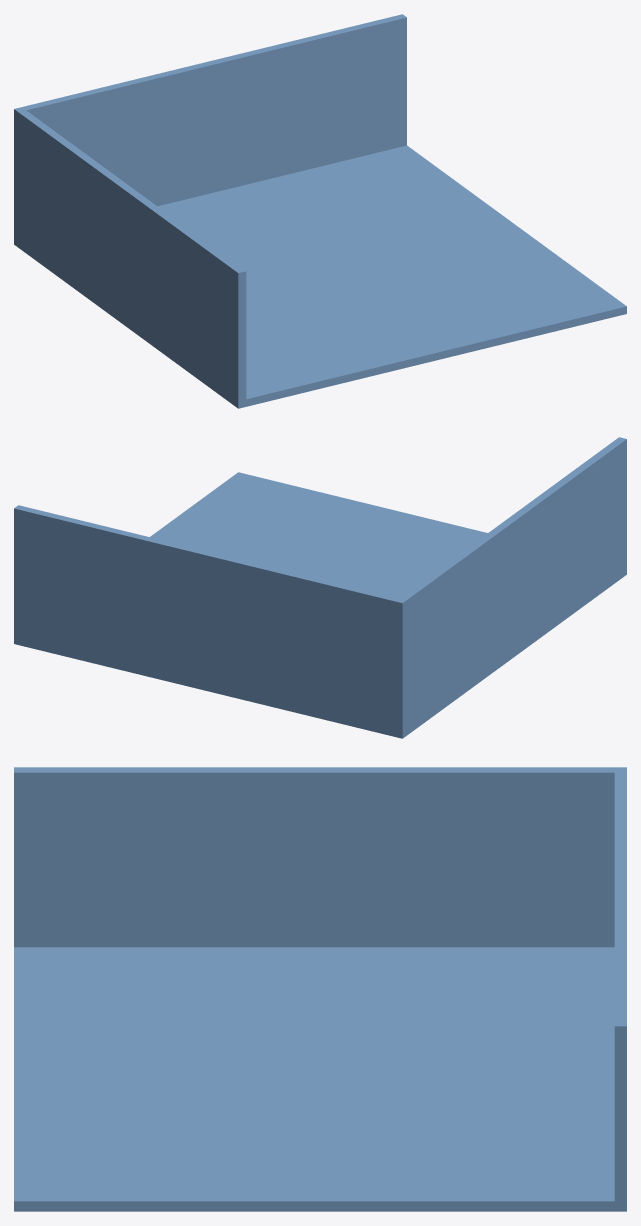
File: Gym.fbx
3 views of the same model, one above another, from view 1: azimuth 30°, elevation 25°; view 2: azimuth 150°, elevation 25°; view 3: azimuth 270°, elevation 25° (orthographic). The views are drawn at different scales.
Parts seen in each view (by area): view 1: Gym; view 2: Gym; view 3: Gym.
Part boxes in pixels (bbox=[...]): Gym: bbox=[14, 14, 626, 408]; Gym: bbox=[14, 437, 626, 738]; Gym: bbox=[14, 767, 626, 1211].
Size of the model in its own units: 5711 by 1904 by 5711.
